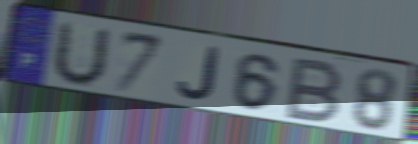6: (233, 51, 285, 112)
7: (115, 28, 167, 98)
8: (351, 67, 399, 133)
B: (282, 55, 346, 126)
J: (175, 45, 222, 104)
U: (48, 18, 113, 89)
